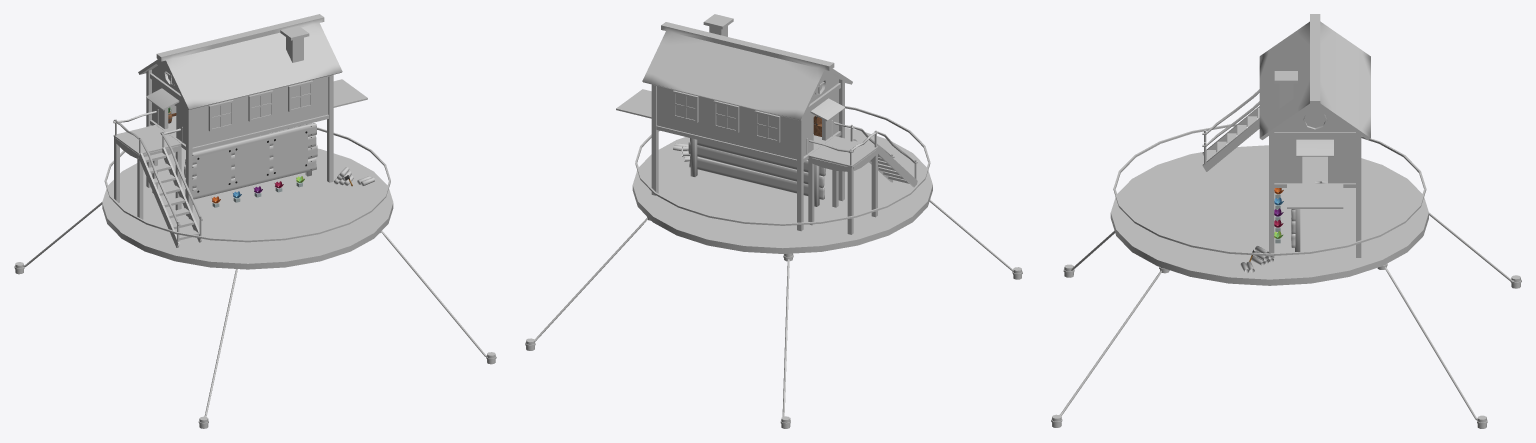
Rendered from shack.fbx.
3 renders of one model, left to right at view 1: azimuth 30°, elevation 25°; view 2: azimuth 150°, elevation 25°; view 3: azimuth 270°, elevation 25°, orthographic. The views are drawn at different scales.
Visible parts, largest first — view 1: treehouse, coming_soon_Mesh.009, Plane.042, Plane.048, Plane.047; view 2: treehouse, coming_soon_Mesh.009; view 3: treehouse.
Part boxes in pixels (<box>): treehouse: <box>14,14,496,428</box>; coming_soon_Mesh.009: <box>184,123,317,204</box>; Plane.042: <box>196,149,231,193</box>; Plane.048: <box>273,130,307,174</box>; Plane.047: <box>235,139,269,184</box>; treehouse: <box>525,14,1022,428</box>; coming_soon_Mesh.009: <box>688,138,825,206</box>; treehouse: <box>1051,14,1521,428</box>.
Size of the model in its own units: 1673 by 1510 by 2136.
